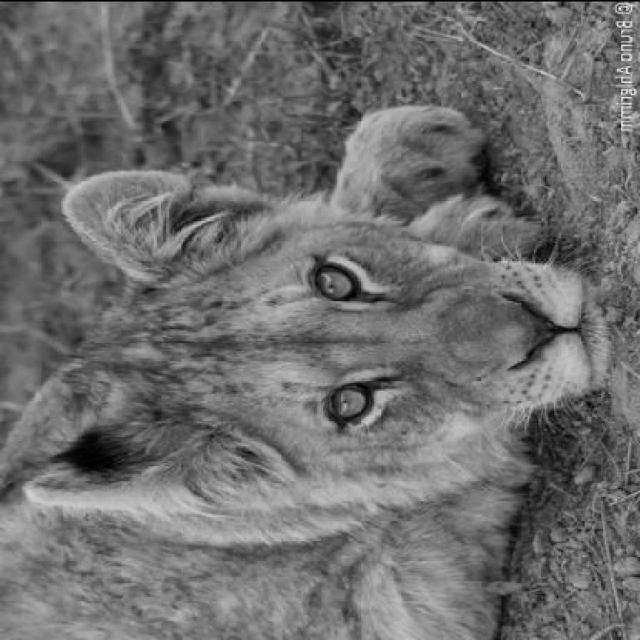Lion: (6, 91, 639, 638)
